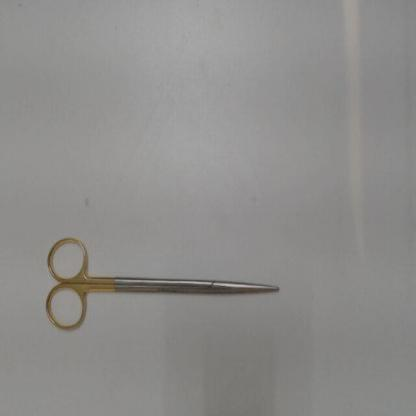7 Metzenbaum Scissors: (43, 233, 279, 336)
